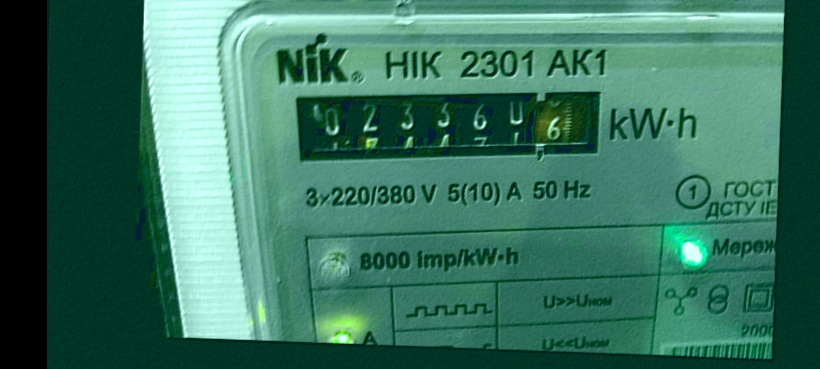0: (323, 103, 346, 138), (506, 96, 530, 128)
2: (362, 100, 383, 133)
3: (436, 95, 457, 129), (398, 100, 418, 132)
6: (546, 110, 568, 144), (471, 99, 493, 132)
screen: (280, 71, 621, 178)
